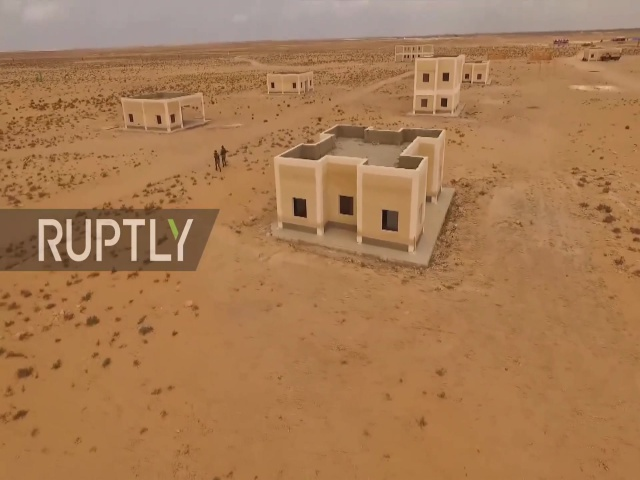person: (219, 145, 230, 168), (212, 148, 220, 175)
